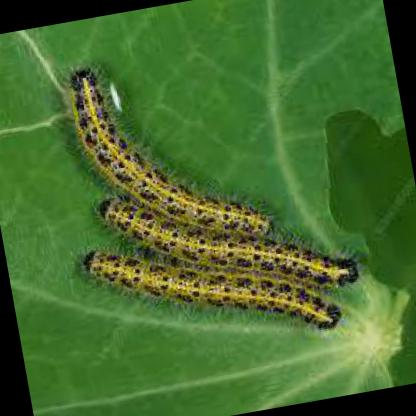pieris: (63, 64, 269, 240), (98, 199, 364, 289), (80, 247, 354, 328)
